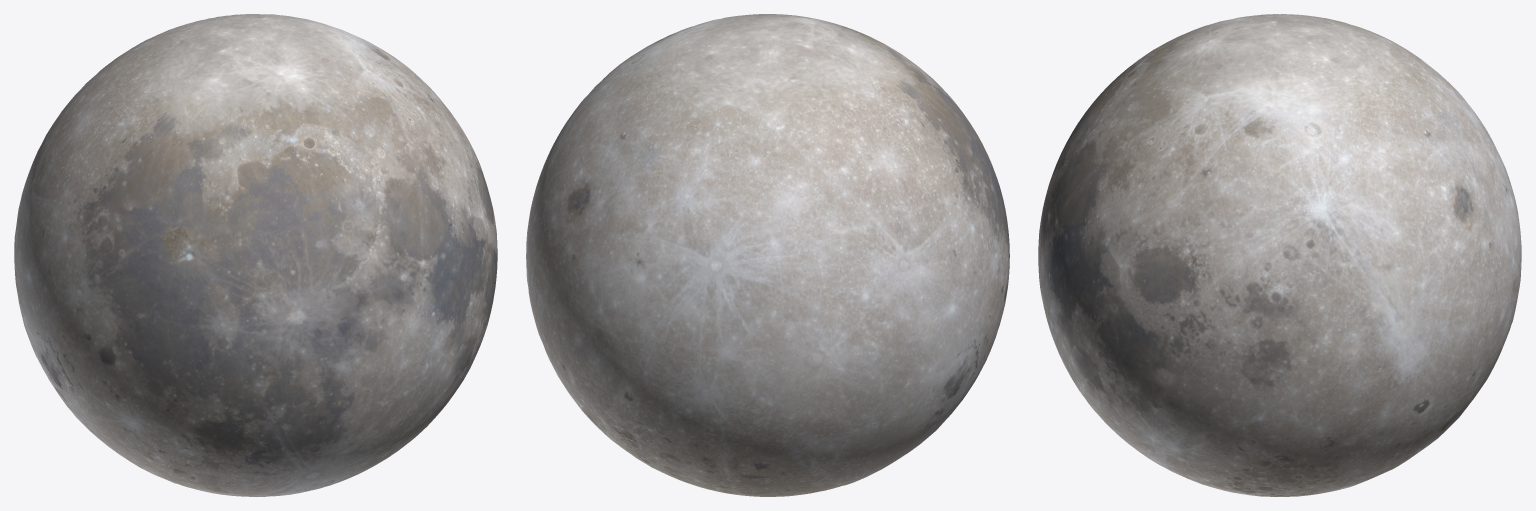
File: moon-globe.glb
3 views of the same model, side by side, from view 1: azimuth 30°, elevation 25°; view 2: azimuth 150°, elevation 25°; view 3: azimuth 270°, elevation 25° (orthographic).
Visible parts, largest first — view 1: Moon · LRO LROC / LOLA; view 2: Moon · LRO LROC / LOLA; view 3: Moon · LRO LROC / LOLA.
Boxes of the visible parts, x1=… form: Moon · LRO LROC / LOLA: x1=14, y1=14, x2=497, y2=496; Moon · LRO LROC / LOLA: x1=526, y1=14, x2=1009, y2=496; Moon · LRO LROC / LOLA: x1=1038, y1=14, x2=1521, y2=496.
Size of the model in its own units: 2 by 2 by 2.
1 material, 1 textured.
